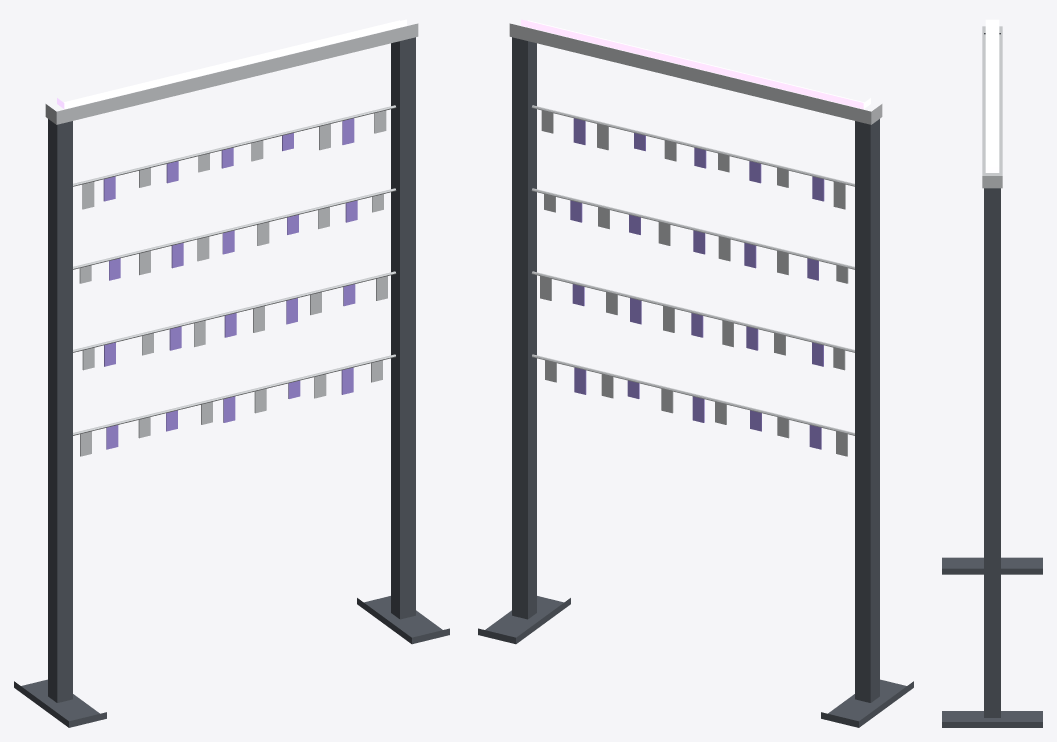
Rendered from ext_memorial_tag_rack_02.glb.
3 views of the same model, side by side, from view 1: azimuth 30°, elevation 25°; view 2: azimuth 150°, elevation 25°; view 3: azimuth 270°, elevation 25° (orthographic). The views are drawn at different scales.
Parts seen in each view (by area): view 1: Posts, Tags_Ti, Tags_Violet, Top_Rail, Wires, Feet, Lamp_Strip; view 2: Posts, Tags_Ti, Tags_Violet, Top_Rail, Wires, Feet, Lamp_Strip; view 3: Posts, Feet, Lamp_Strip, Top_Rail.
Part boxes in pixels (x1=…): Posts: x1=48, y1=37, x2=415, y2=702; Tags_Ti: x1=79, y1=110, x2=387, y2=456; Tags_Violet: x1=103, y1=118, x2=357, y2=449; Top_Rail: x1=45, y1=23, x2=418, y2=124; Wires: x1=73, y1=105, x2=395, y2=435; Feet: x1=14, y1=596, x2=449, y2=727; Lamp_Strip: x1=57, y1=19, x2=406, y2=109; Posts: x1=512, y1=37, x2=879, y2=702; Tags_Ti: x1=540, y1=110, x2=848, y2=456; Tags_Violet: x1=570, y1=118, x2=824, y2=449; Top_Rail: x1=509, y1=23, x2=882, y2=124; Wires: x1=532, y1=105, x2=854, y2=435; Feet: x1=478, y1=596, x2=913, y2=727; Lamp_Strip: x1=521, y1=19, x2=870, y2=109; Posts: x1=984, y1=33, x2=1000, y2=717; Feet: x1=942, y1=557, x2=1042, y2=727; Lamp_Strip: x1=985, y1=19, x2=999, y2=172; Top_Rail: x1=982, y1=26, x2=1002, y2=188.
Bounding box in the file's own units: 1.2 × 1.82 × 0.3.
